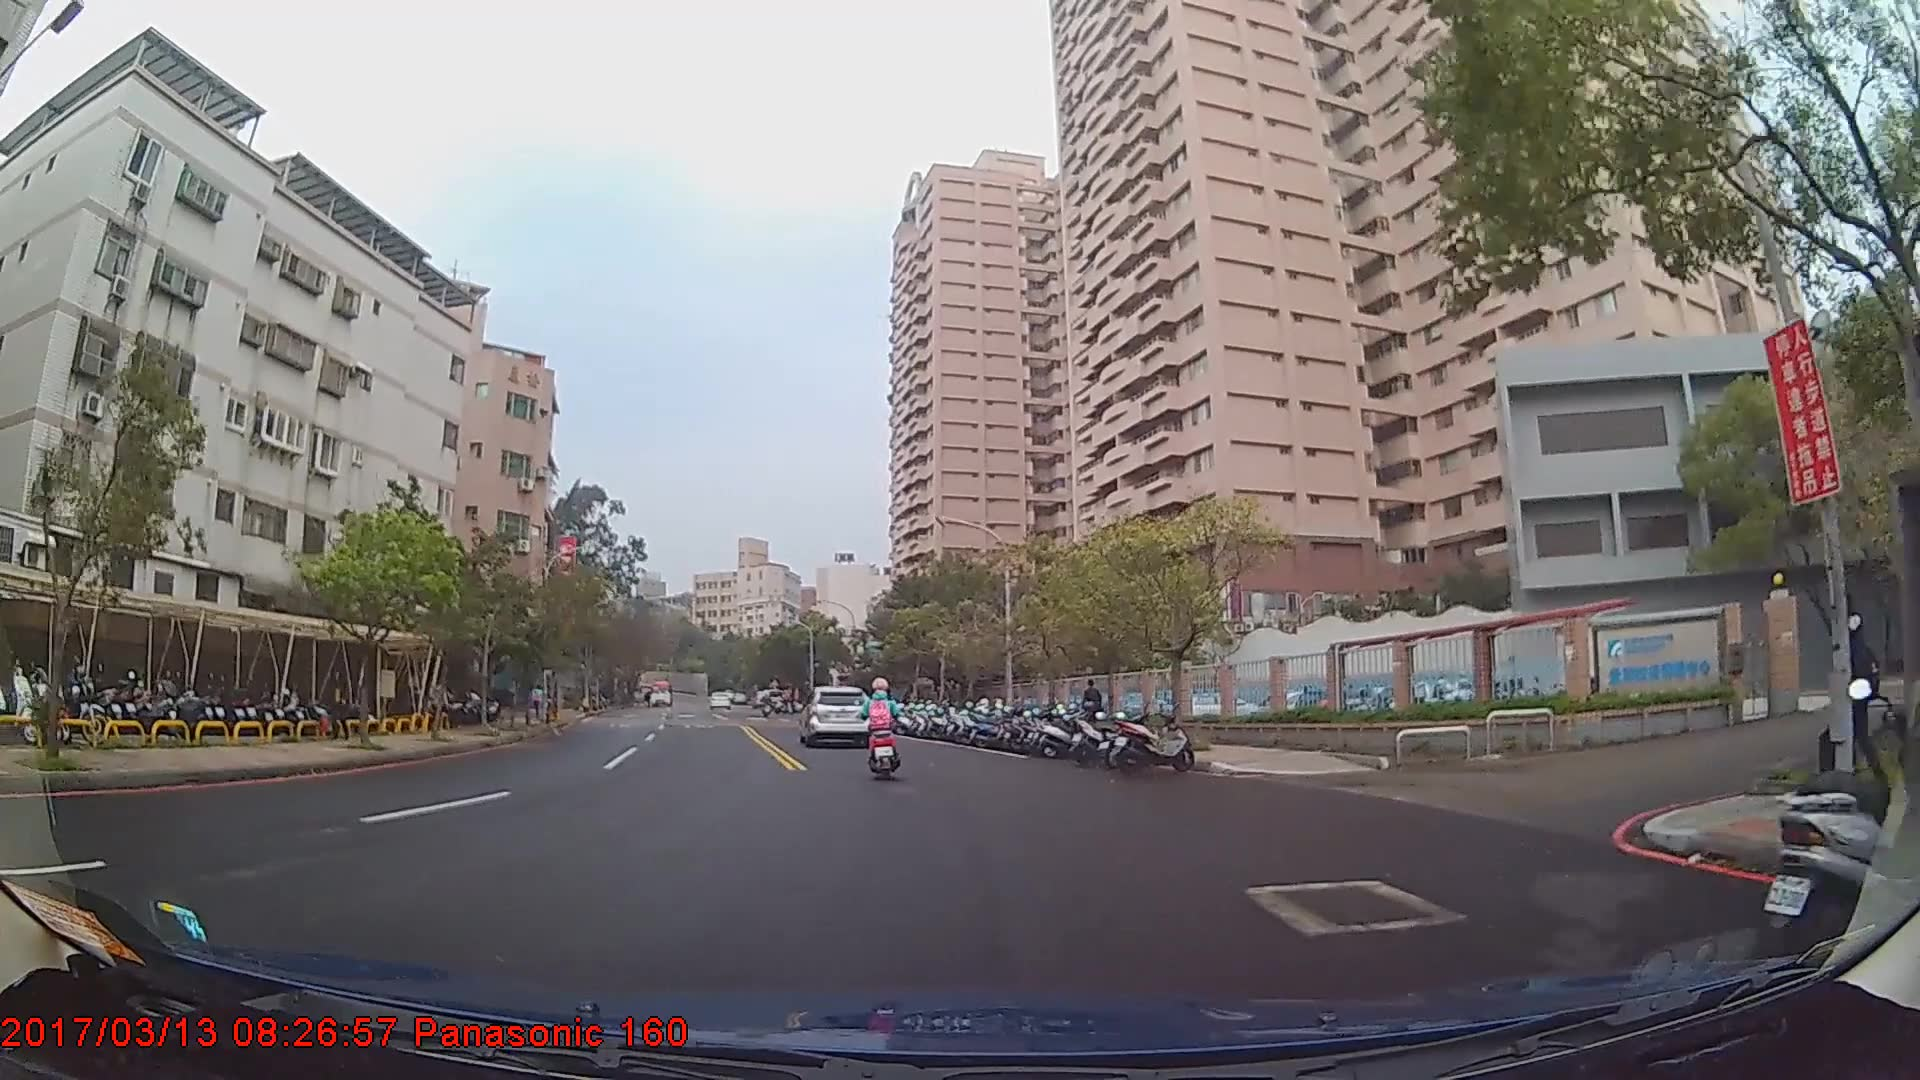pedestrian: (1805, 570, 1878, 819), (327, 663, 353, 738), (1083, 678, 1104, 738)
rider: (859, 674, 901, 769)
vehicle: (800, 683, 876, 746), (645, 677, 674, 706)
